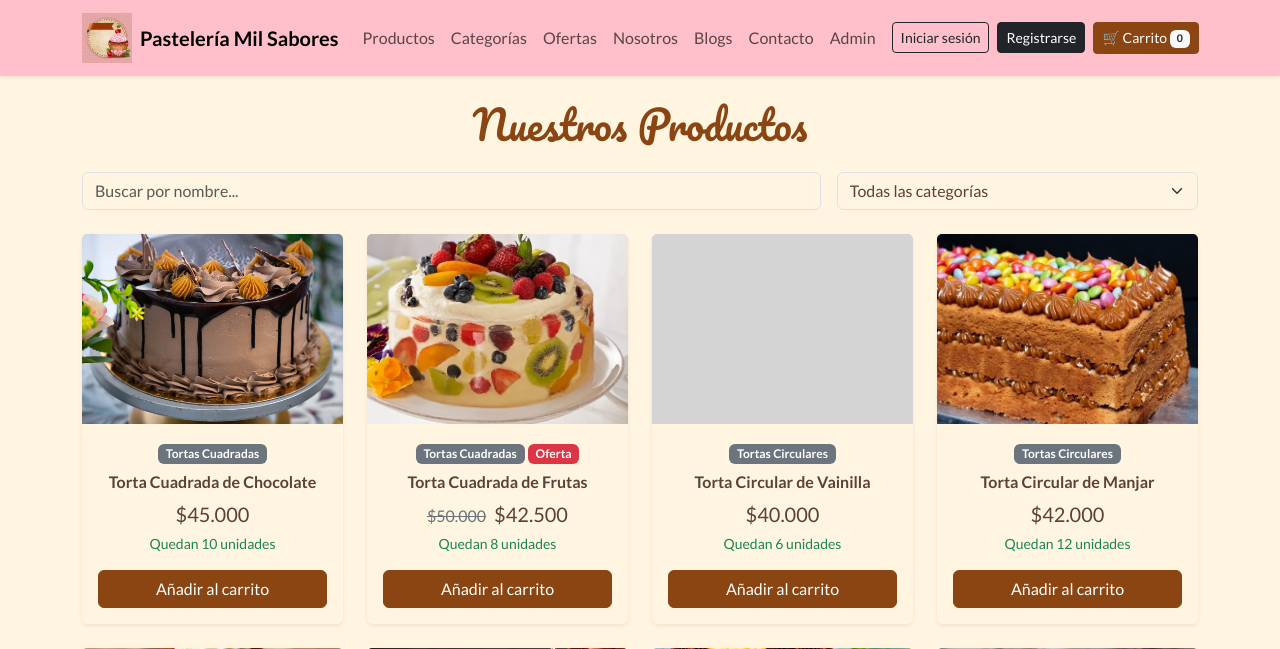
it: <App /> (navegación y estado compartido) › en Productos el filtro por categoría muestra solo esa categoría
Select "Sin Gluten" in the dropdown named "Filtrar por categoría" at [1017, 191], box [837,172,1198,210]
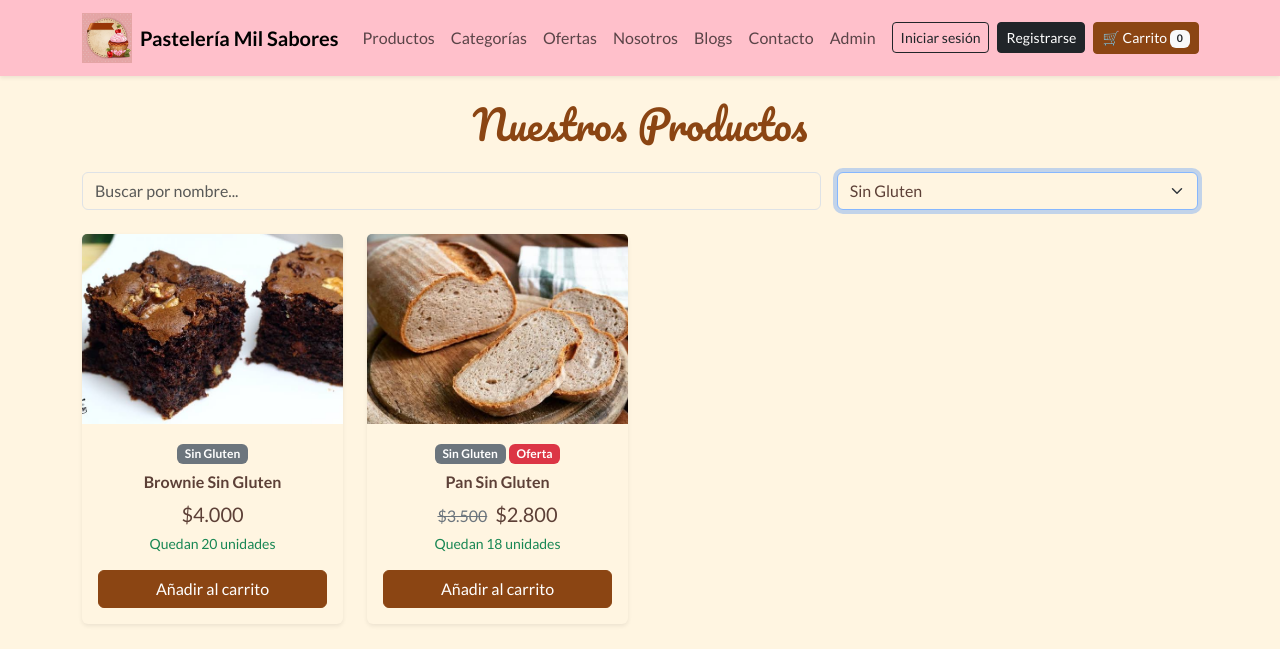
Expected: the link "Brownie Sin Gluten" is shown, [144,472,281,491]
Expected: the number of buttons "Añadir al carrito" is 2, [98,570,327,608]; [383,570,612,608]
